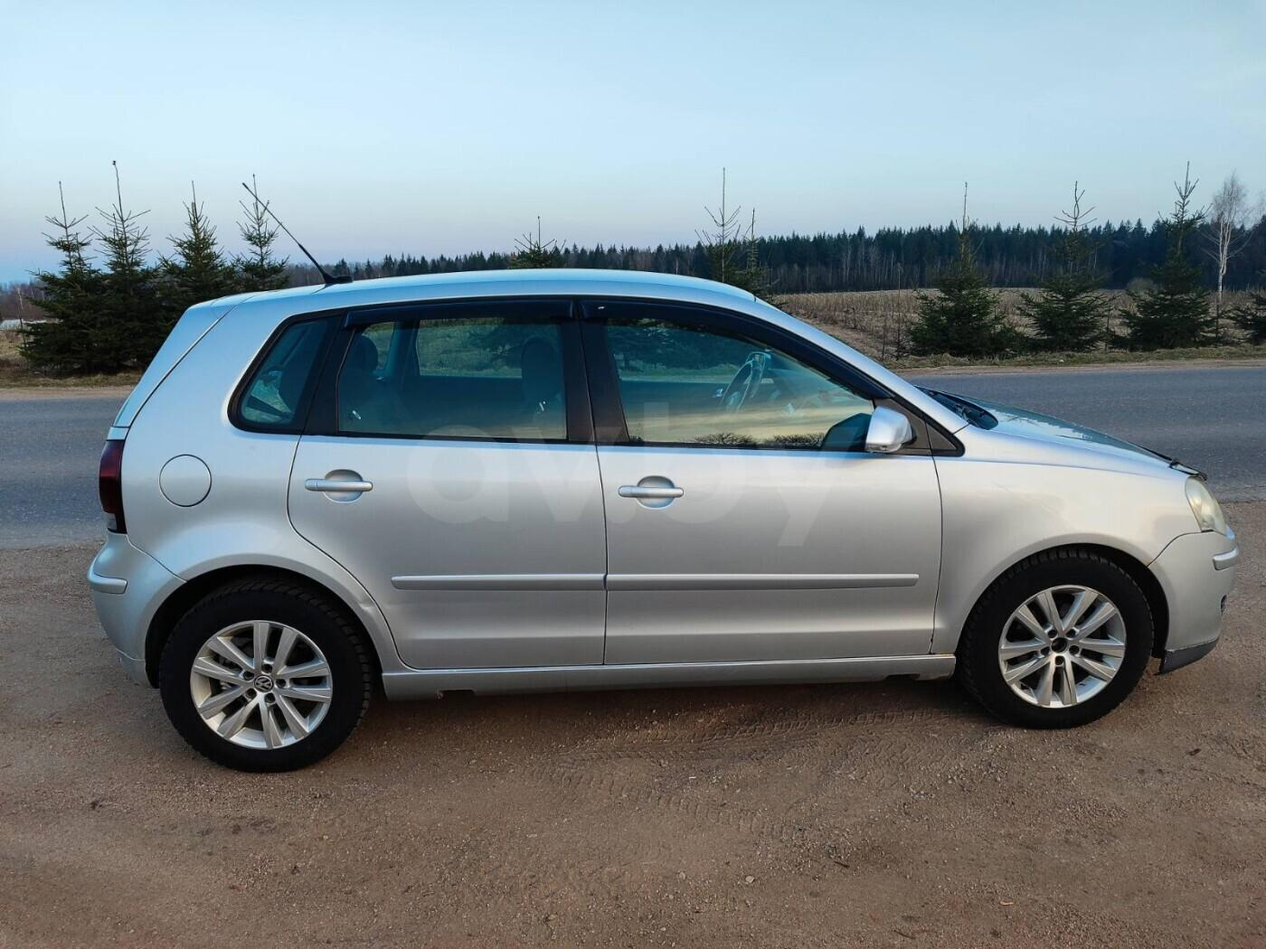Polo_2005-2009: (85, 266, 1241, 760)
